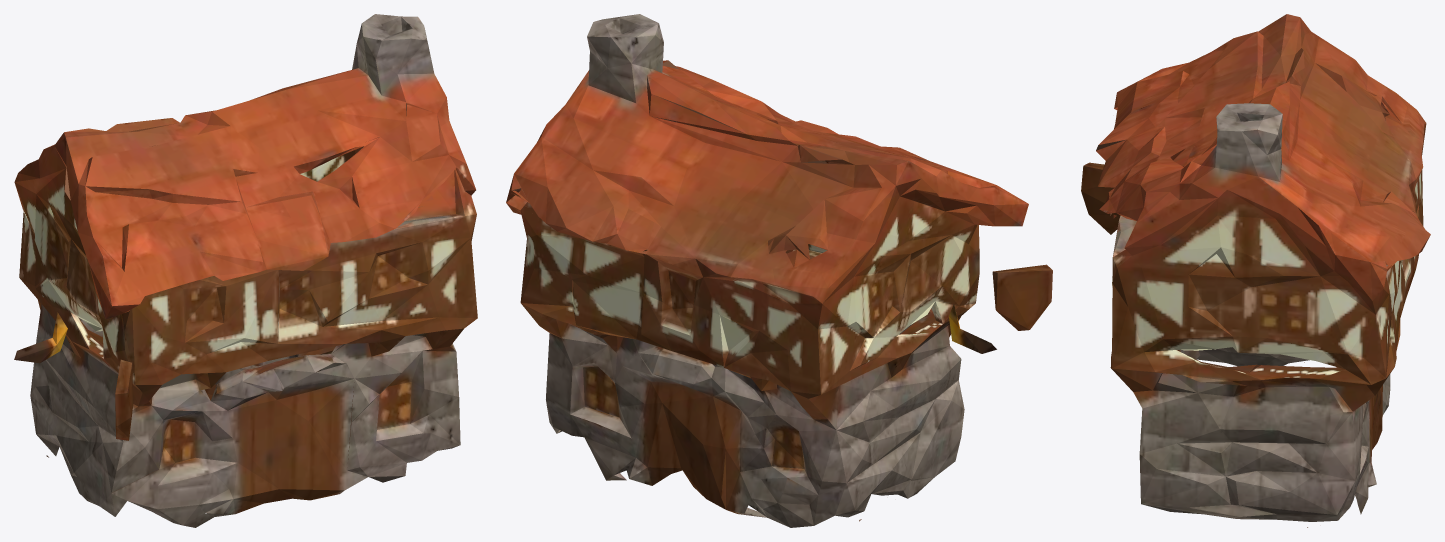
File: inn.glb
3 views of the same model, side by side, from view 1: azimuth 30°, elevation 25°; view 2: azimuth 150°, elevation 25°; view 3: azimuth 270°, elevation 25° (orthographic). The views are drawn at different scales.
Visible parts, largest first — view 1: inn; view 2: inn; view 3: inn.
Boxes of the visible parts, bbox=[...] form: inn: bbox=[14, 14, 477, 527]; inn: bbox=[506, 14, 1052, 527]; inn: bbox=[1081, 14, 1430, 527].
Size of the model in its own units: 9.86 by 9.07 by 6.86.
1 material, 1 textured.
